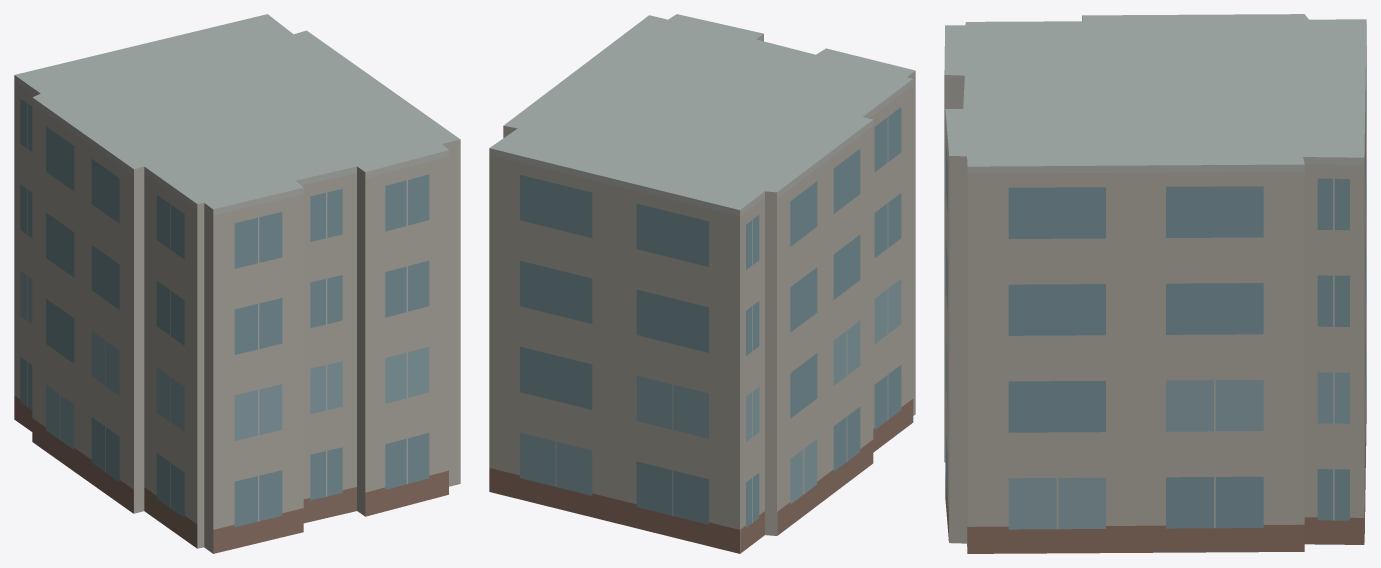
File: survey-upis-32634114.glb
The picture shows the model from 3 angles, left to right: view 1: azimuth 30°, elevation 25°; view 2: azimuth 150°, elevation 25°; view 3: azimuth 270°, elevation 25°; orthographic projection. The views are drawn at different scales.
Visible parts, largest first — view 1: survey-upis-32634114.tmp; view 2: survey-upis-32634114.tmp; view 3: survey-upis-32634114.tmp.
Part boxes in pixels (box(x1,y1,x2,y2)): survey-upis-32634114.tmp: box(14, 14, 460, 553); survey-upis-32634114.tmp: box(489, 14, 915, 553); survey-upis-32634114.tmp: box(944, 14, 1366, 553).
Bounding box in the file's own units: 11.16 × 13.2 × 13.05.
